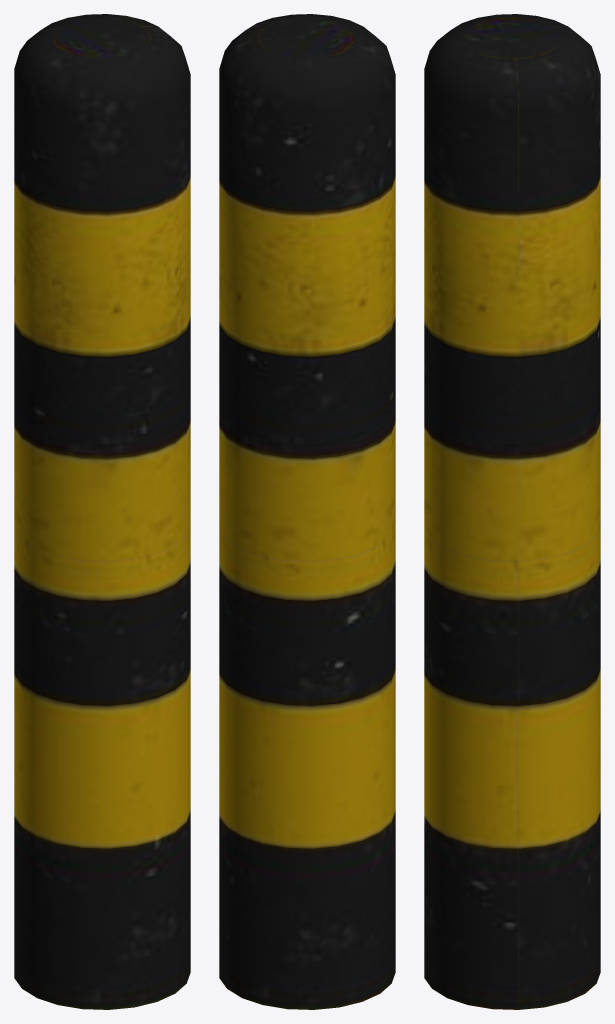
Rendered from bollard_gold_optimised.glb.
3 renders of one model, left to right at view 1: azimuth 30°, elevation 25°; view 2: azimuth 150°, elevation 25°; view 3: azimuth 270°, elevation 25°, orthographic.
Parts seen in each view (by area): view 1: part0; view 2: part0; view 3: part0.
Boxes of the visible parts, bbox=[...] form: part0: bbox=[14, 14, 190, 1009]; part0: bbox=[219, 14, 395, 1009]; part0: bbox=[424, 14, 600, 1009].
Bounding box in the file's own units: 0.1628 × 0.9502 × 0.1624.
1 material, 1 textured.
